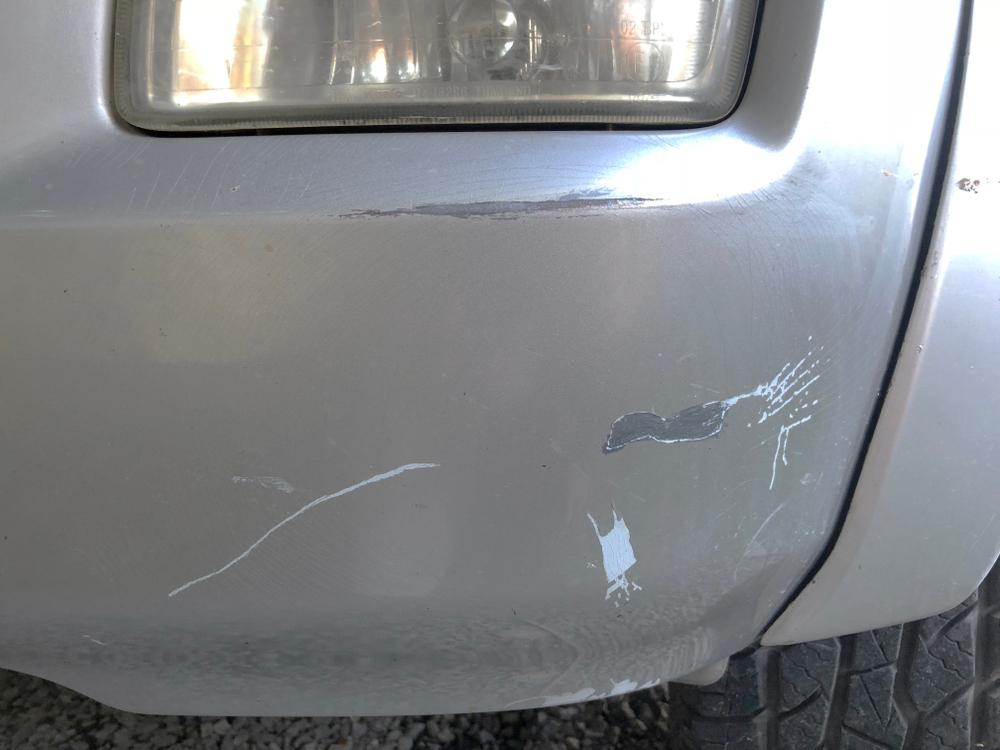scratch: (159, 457, 449, 603), (592, 329, 831, 494), (333, 184, 668, 223)
